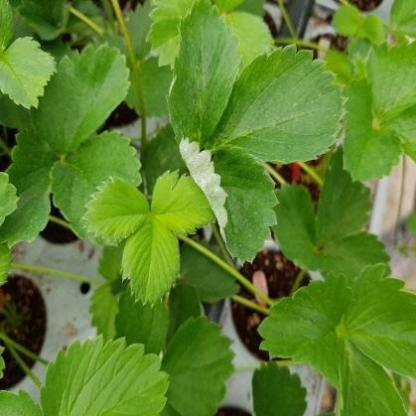Strawberry_Powdery_Mildew_Leaf: (178, 135, 280, 267), (166, 0, 242, 150)
